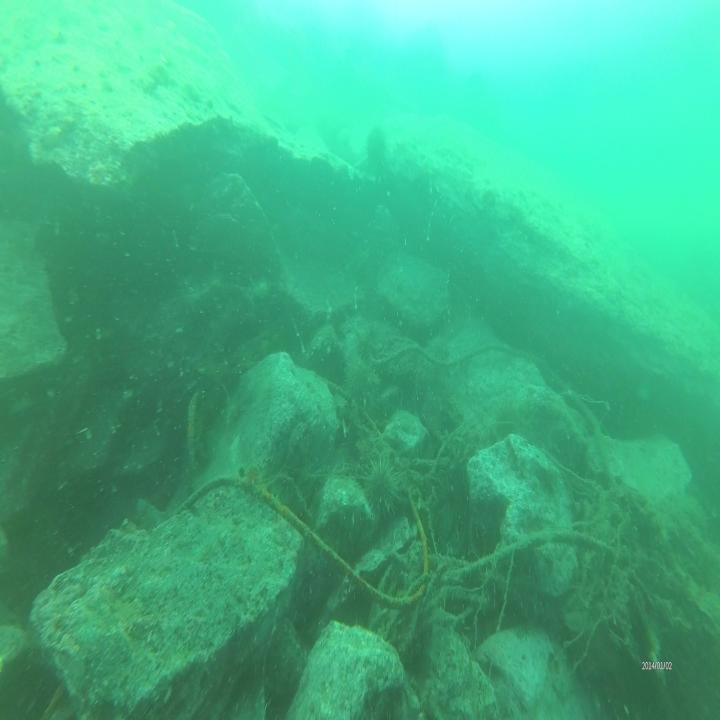echinus: (358, 457, 396, 511), (346, 360, 373, 396)
